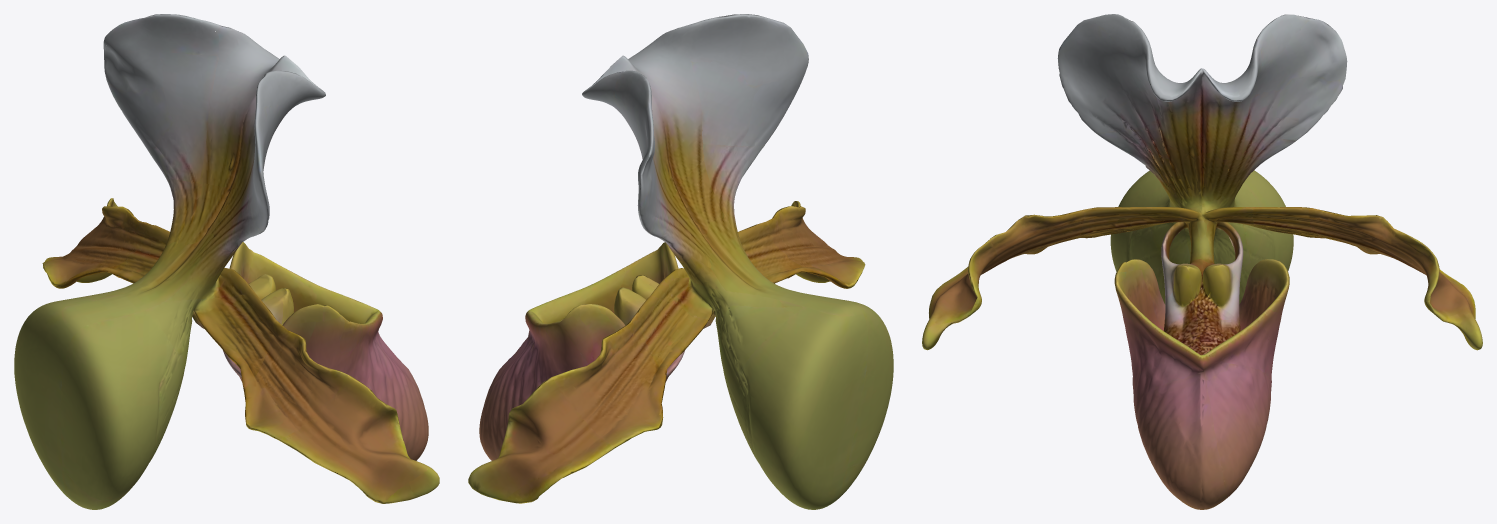
Rendered from slipper-orchid.glb.
3 views of the same model, side by side, from view 1: azimuth 30°, elevation 25°; view 2: azimuth 150°, elevation 25°; view 3: azimuth 270°, elevation 25° (orthographic). The views are drawn at different scales.
Parts seen in each view (by area): view 1: tripo_node_87b1c9e7-e2e2-45d2-88b3-a34ee07b75fa; view 2: tripo_node_87b1c9e7-e2e2-45d2-88b3-a34ee07b75fa; view 3: tripo_node_87b1c9e7-e2e2-45d2-88b3-a34ee07b75fa.
Boxes of the visible parts, left/top/right/bottom form: tripo_node_87b1c9e7-e2e2-45d2-88b3-a34ee07b75fa: left=14, top=14, right=439, bottom=509; tripo_node_87b1c9e7-e2e2-45d2-88b3-a34ee07b75fa: left=468, top=14, right=893, bottom=509; tripo_node_87b1c9e7-e2e2-45d2-88b3-a34ee07b75fa: left=922, top=14, right=1482, bottom=509.
Size of the model in its own units: 0.672 by 0.8038 by 0.98.
1 material, 1 textured.
